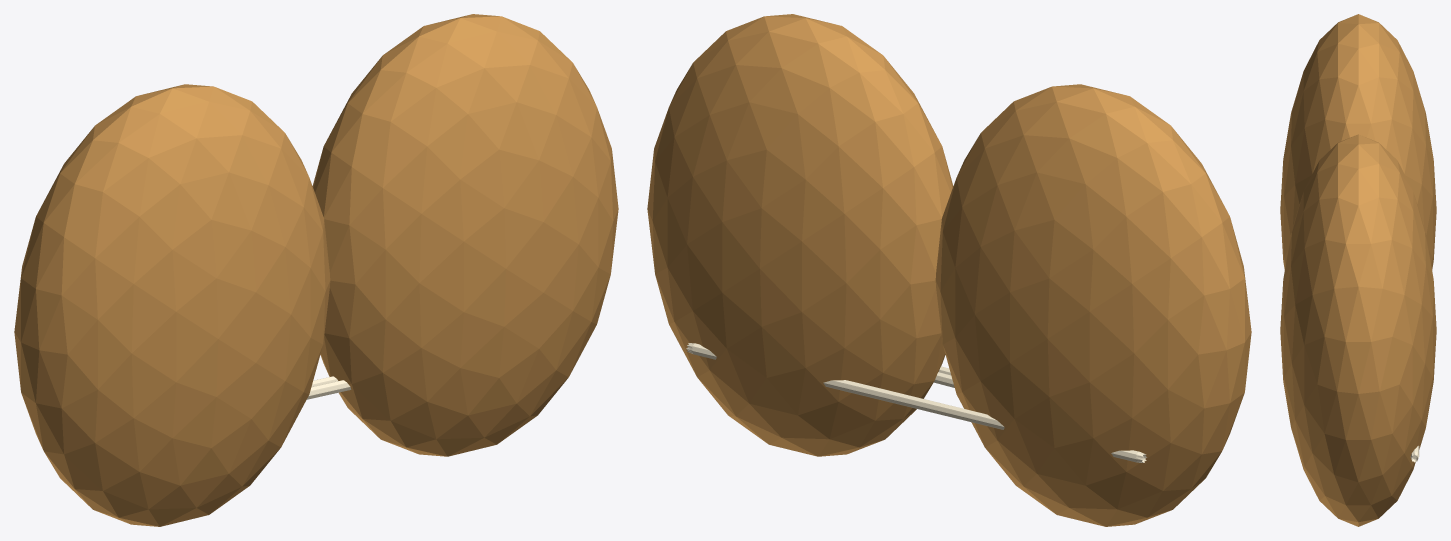
File: sandalias.glb
The picture shows the model from 3 angles, left to right: view 1: azimuth 30°, elevation 25°; view 2: azimuth 150°, elevation 25°; view 3: azimuth 270°, elevation 25°; orthographic projection. The views are drawn at different scales.
Parts seen in each view (by area): view 1: sandalias_00, sandalias_02; view 2: sandalias_00, sandalias_02, Detalle_11; view 3: sandalias_02, sandalias_00.
Part boxes in pixels (x1,y1,x2,y2): sandalias_00: (14,84,330,526); sandalias_02: (312,14,618,456); sandalias_00: (935,84,1251,526); sandalias_02: (647,14,953,456); Detalle_11: (686,343,1146,462); sandalias_02: (1280,134,1436,526); sandalias_00: (1280,14,1436,269).
Size of the model in its own units: 1.08 by 0.7567 by 0.2883.
